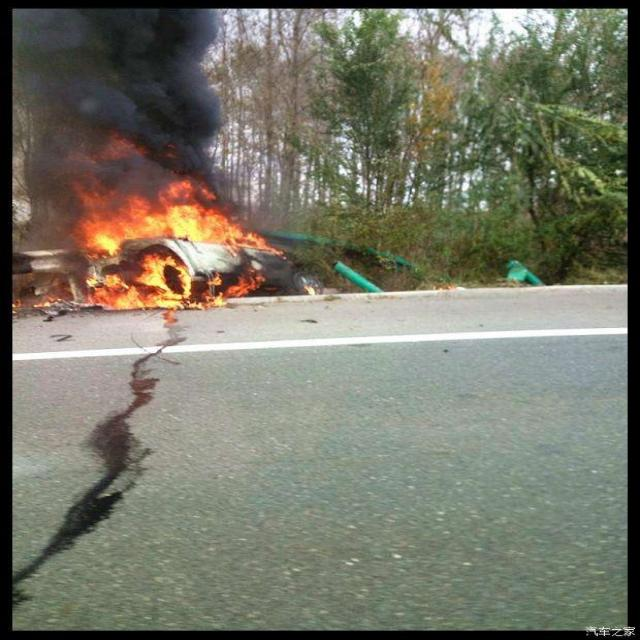fire: (69, 151, 282, 312)
